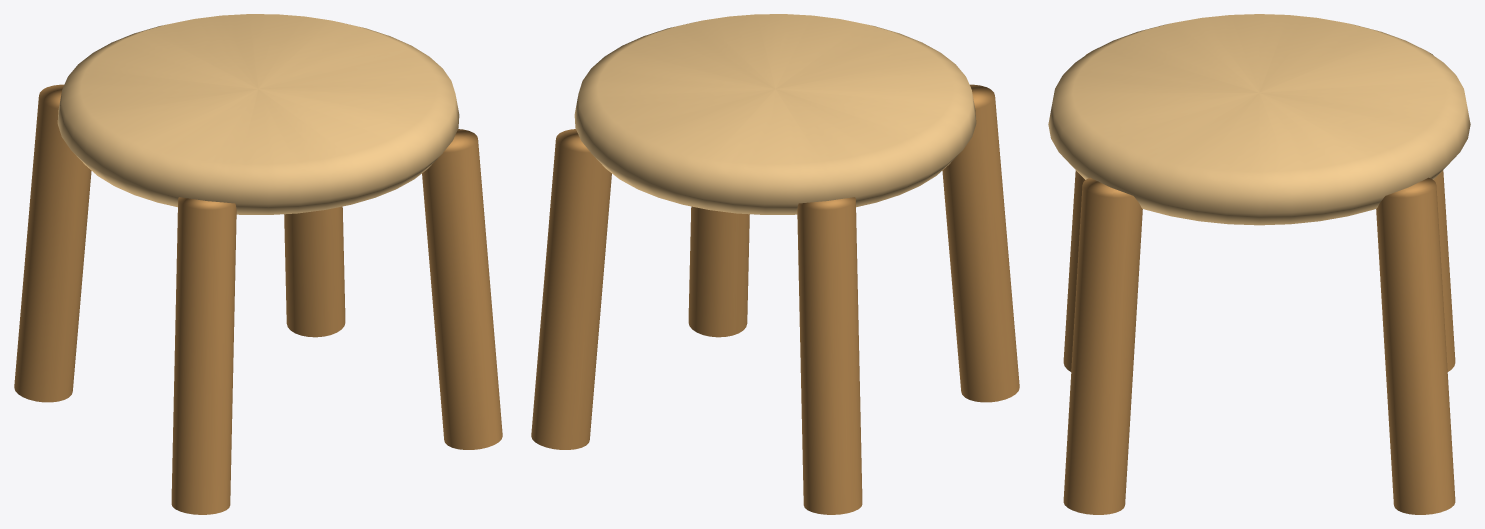
The model's file is STOOL.glb.
3 renders of one model, left to right at view 1: azimuth 30°, elevation 25°; view 2: azimuth 150°, elevation 25°; view 3: azimuth 270°, elevation 25°, orthographic. The views are drawn at different scales.
Visible parts, largest first — view 1: STOOL; view 2: STOOL; view 3: STOOL.
Boxes of the visible parts, bbox=[...] form: STOOL: bbox=[14, 14, 502, 514]; STOOL: bbox=[531, 14, 1019, 514]; STOOL: bbox=[1048, 14, 1470, 514].
Size of the model in its own units: 0.52 by 0.466 by 0.52.
Materials: 2 (2 with a texture image).
